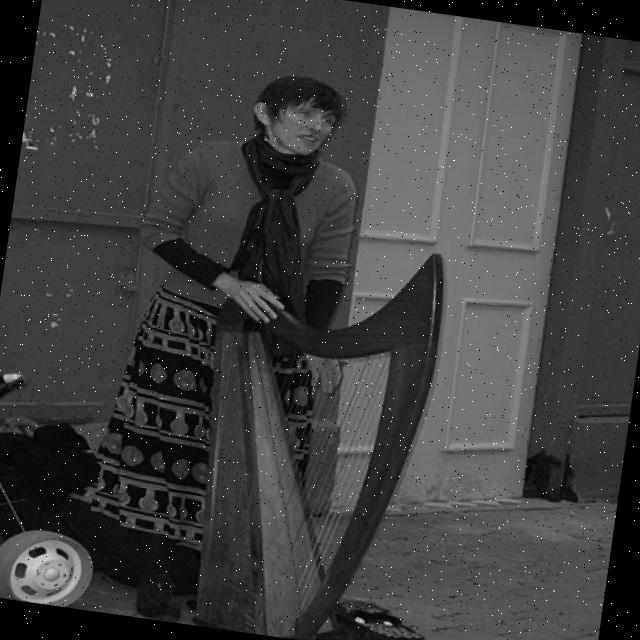harp: (163, 211, 468, 640)
